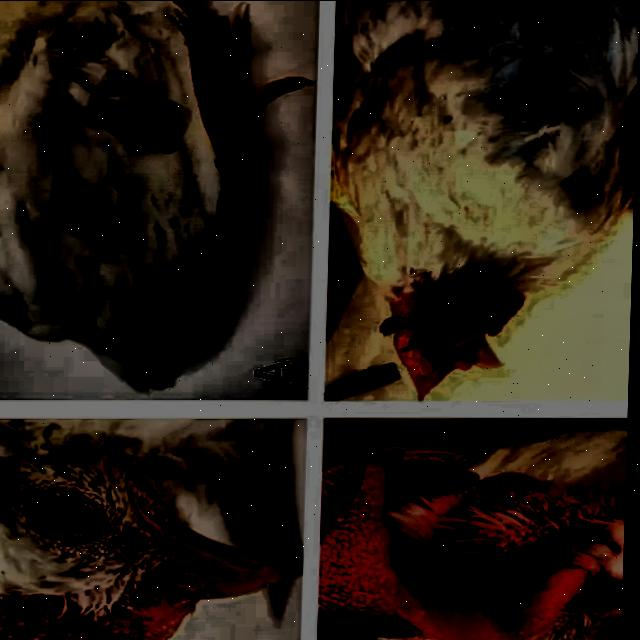Newcastle: (332, 0, 640, 397), (0, 0, 314, 343), (323, 421, 630, 640), (0, 420, 303, 640)
